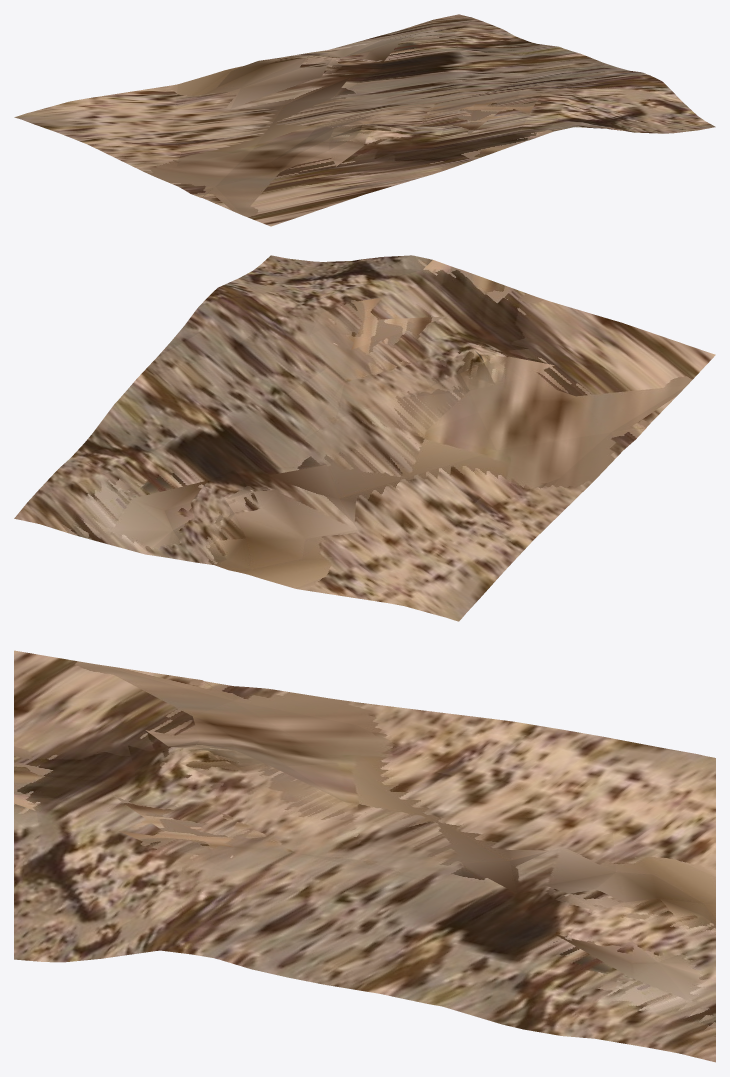
3 renders of one model, top to bottom at view 1: azimuth 30°, elevation 25°; view 2: azimuth 150°, elevation 25°; view 3: azimuth 270°, elevation 25°, orthographic. The views are drawn at different scales.
Bounding box in the file's own units: 1.04 × 0.256 × 1.04.
Materials: 2 (2 with a texture image).
